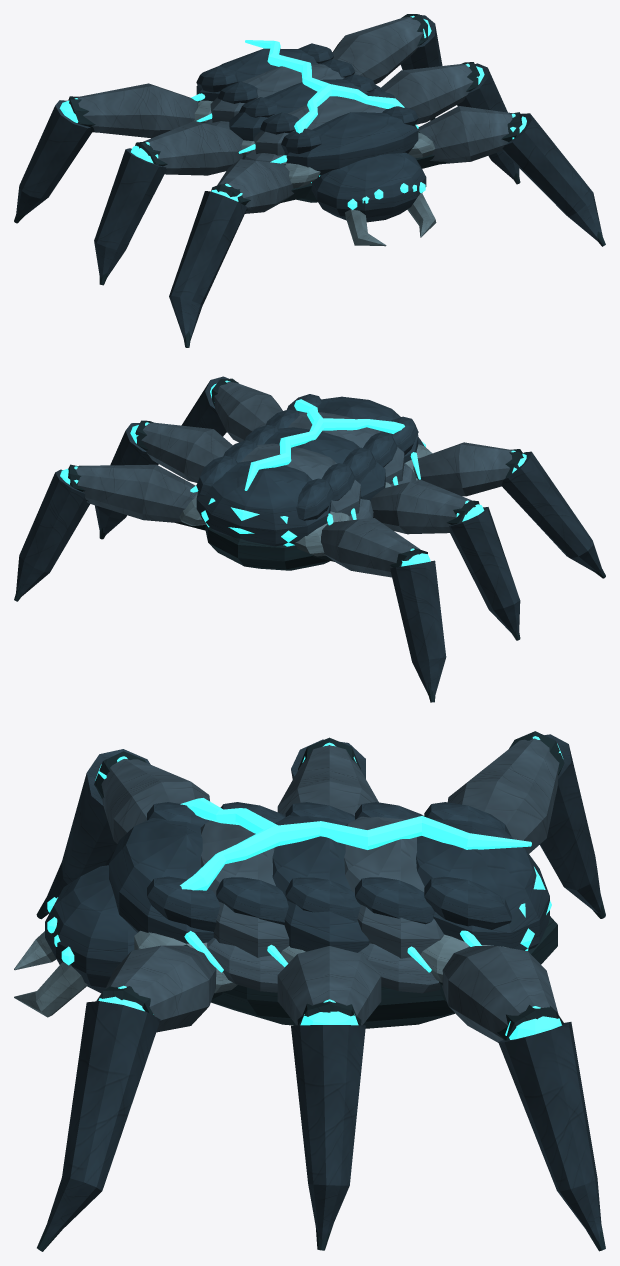
Rendered from crawler_static.glb.
3 renders of one model, top to bottom at view 1: azimuth 30°, elevation 25°; view 2: azimuth 150°, elevation 25°; view 3: azimuth 270°, elevation 25°, orthographic. The views are drawn at different scales.
Parts seen in each view (by area): view 1: CarapacePlates, Hip_R2Plates, Hip_L0Plates, Hip_L1Plates, Hip_L2Plates, HeadPivotPlates, Hip_R1Plates, Hip_R0Plates; view 2: CarapacePlates, Hip_R0Plates, Hip_L0Plates, Hip_L1Plates, Hip_L2Plates, Hip_R1Plates, Hip_R2Plates; view 3: CarapacePlates, Hip_R0Plates, Hip_R2Plates, Hip_R1Plates, Hip_L0Plates, HeadPivotPlates, Hip_L2Plates, Hip_L1Plates.
Boxes of the visible parts, <box> form: CarapacePlates: <box>191,40,435,202</box>; Hip_R2Plates: <box>415,106,605,246</box>; Hip_L0Plates: <box>14,83,199,223</box>; Hip_L1Plates: <box>94,121,243,285</box>; Hip_L2Plates: <box>169,159,311,347</box>; HeadPivotPlates: <box>311,152,436,246</box>; Hip_R1Plates: <box>381,62,520,184</box>; Hip_R0Plates: <box>332,14,442,120</box>; CarapacePlates: <box>179,394,432,570</box>; Hip_R0Plates: <box>14,464,205,601</box>; Hip_L0Plates: <box>313,518,446,702</box>; Hip_L1Plates: <box>370,479,520,640</box>; Hip_L2Plates: <box>413,442,605,578</box>; Hip_R1Plates: <box>94,420,232,539</box>; Hip_R2Plates: <box>181,376,282,442</box>; CarapacePlates: <box>109,798,557,1028</box>; Hip_R0Plates: <box>439,946,605,1251</box>; Hip_R2Plates: <box>37,944,222,1251</box>; Hip_R1Plates: <box>277,946,381,1250</box>; Hip_L0Plates: <box>447,731,605,918</box>; HeadPivotPlates: <box>14,865,136,1017</box>; Hip_L2Plates: <box>36,749,209,919</box>; Hip_L1Plates: <box>277,737,378,815</box>.
Size of the model in its own units: 1.92 by 0.694 by 1.41.
2 materials, 1 textured.
